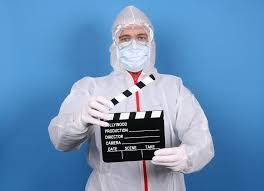with-mask: (102, 8, 166, 73)
